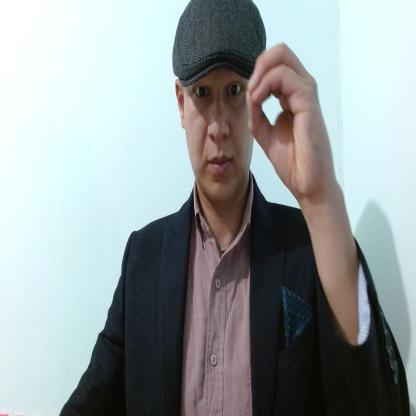O: (246, 42, 333, 201)
